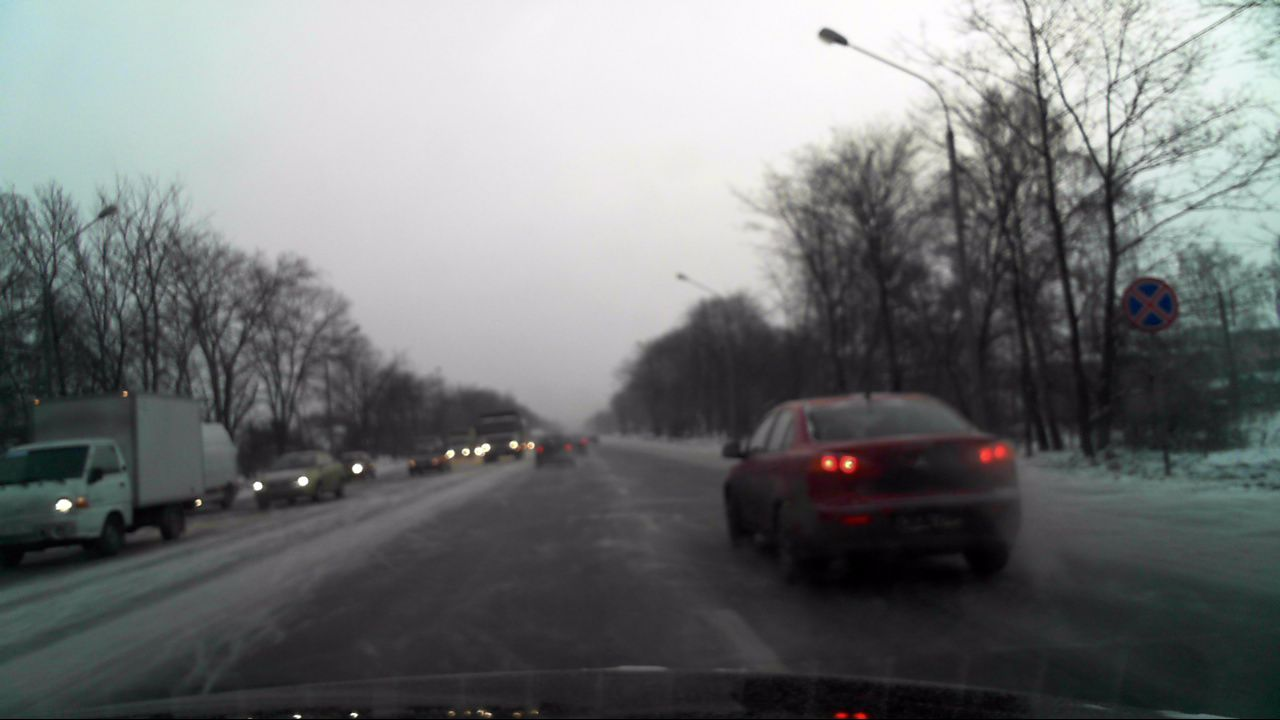No Parking: (1121, 276, 1178, 333)
